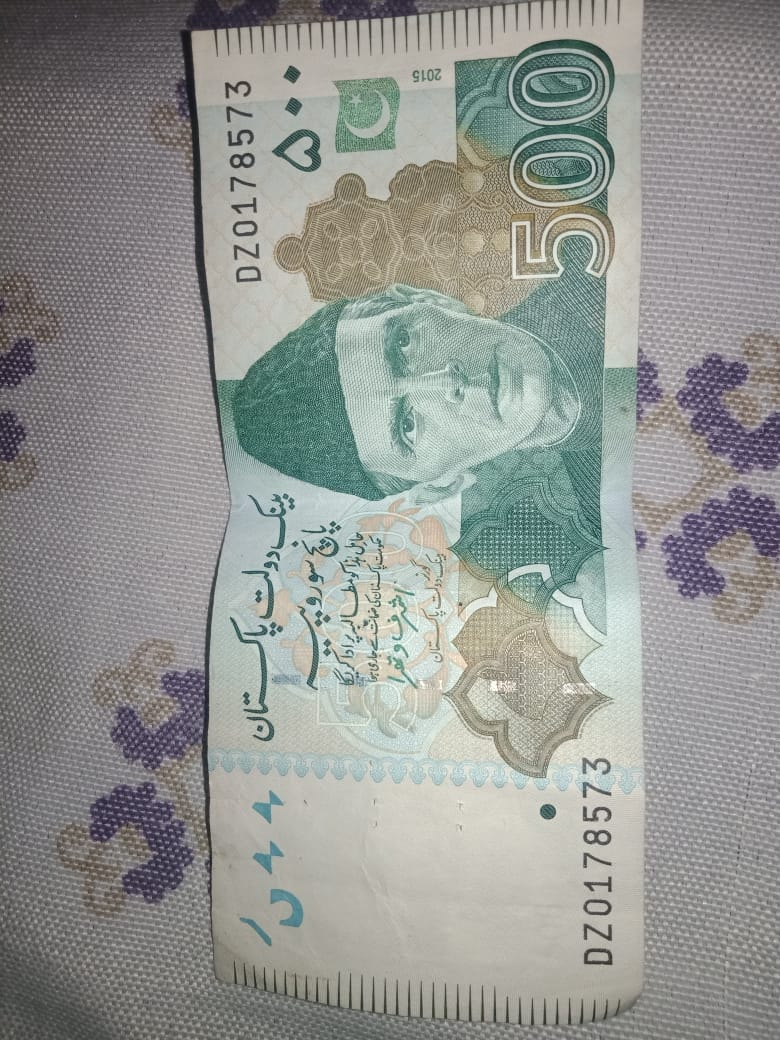500 rupee: (147, 13, 671, 1029)
